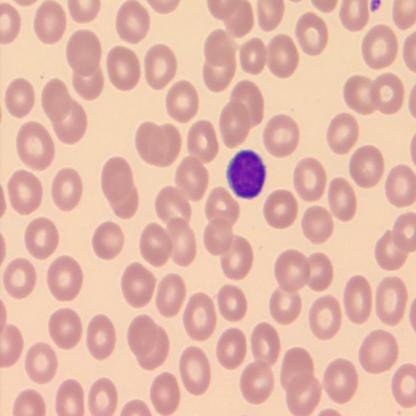Lymphocyte: (226, 148, 267, 198)
